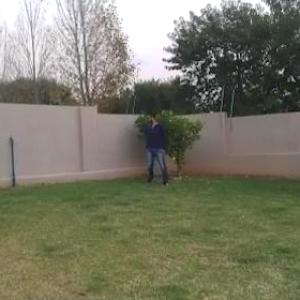follow: (145, 110, 164, 188)
